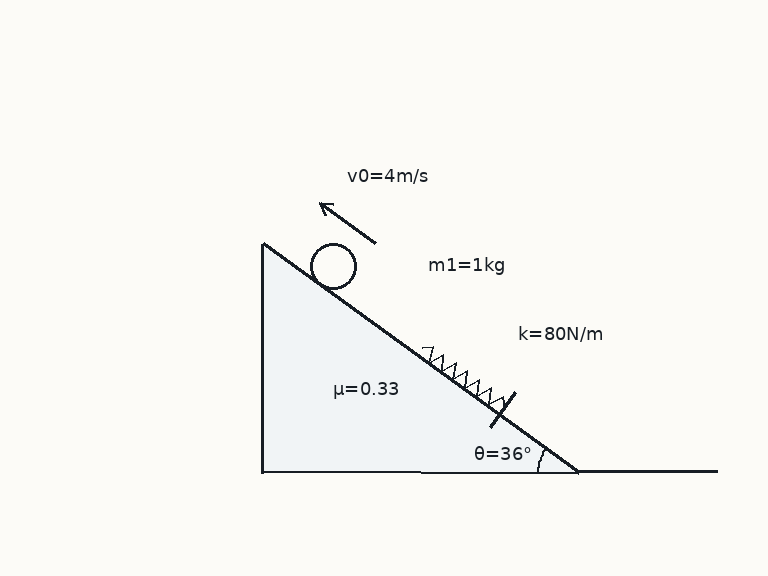ball: (308, 241, 358, 291)
ramp: (260, 241, 580, 474)
spring: (420, 344, 506, 409)
